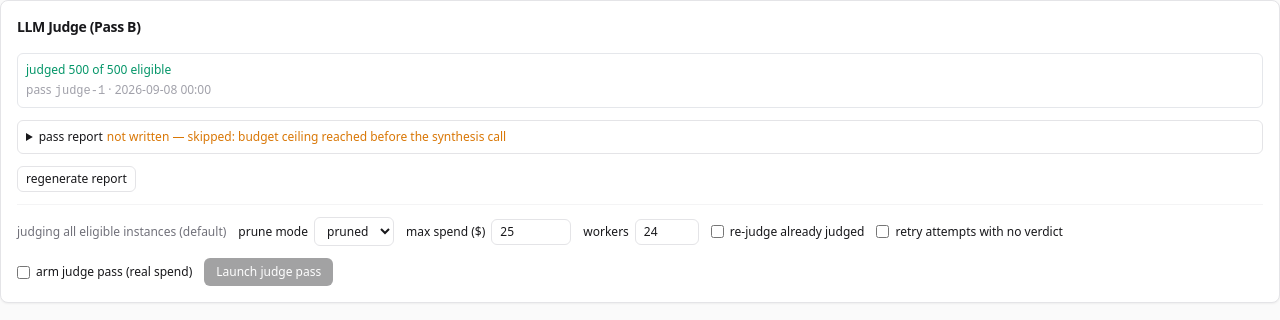
Scenario: JudgeLaunchCard — regenerate report › is armed then confirmed, and launches a synthesis-only pass
Click the button "regenerate report".
click(76, 179)  # box [17,166,136,192]
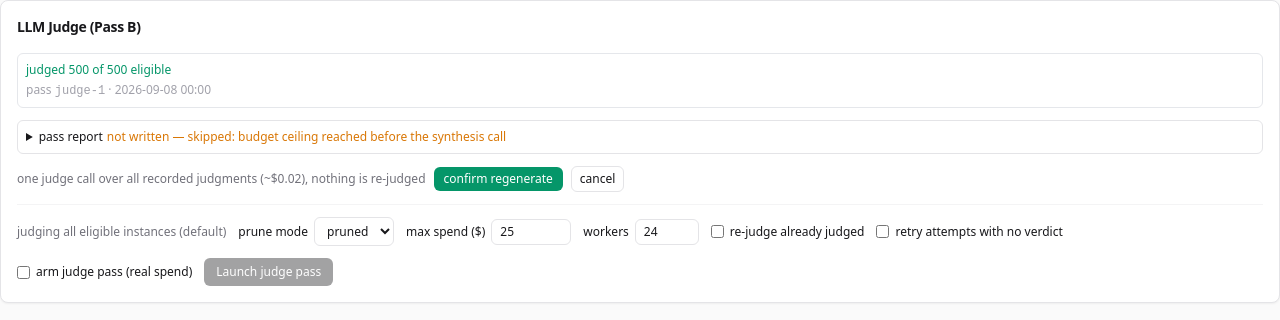
Click the button "confirm regenerate".
click(498, 179)  # box [434,167,563,191]
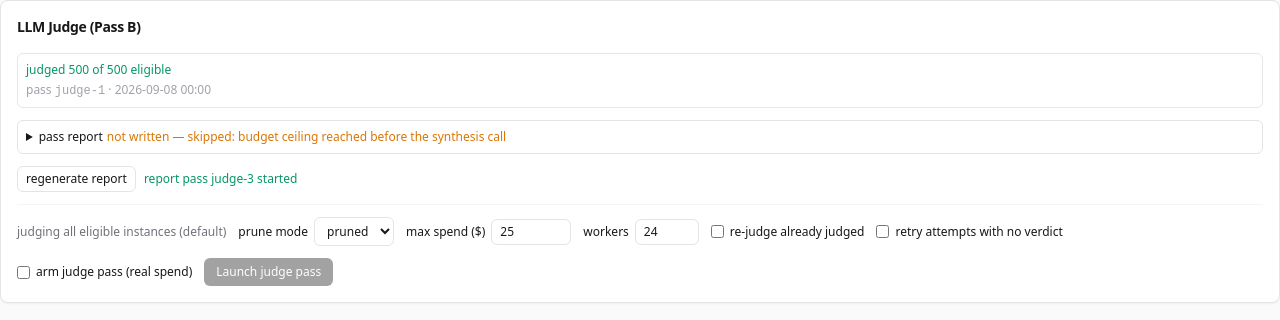
Result: the text "report pass judge-3 started" is shown at [144,171,297,187]
